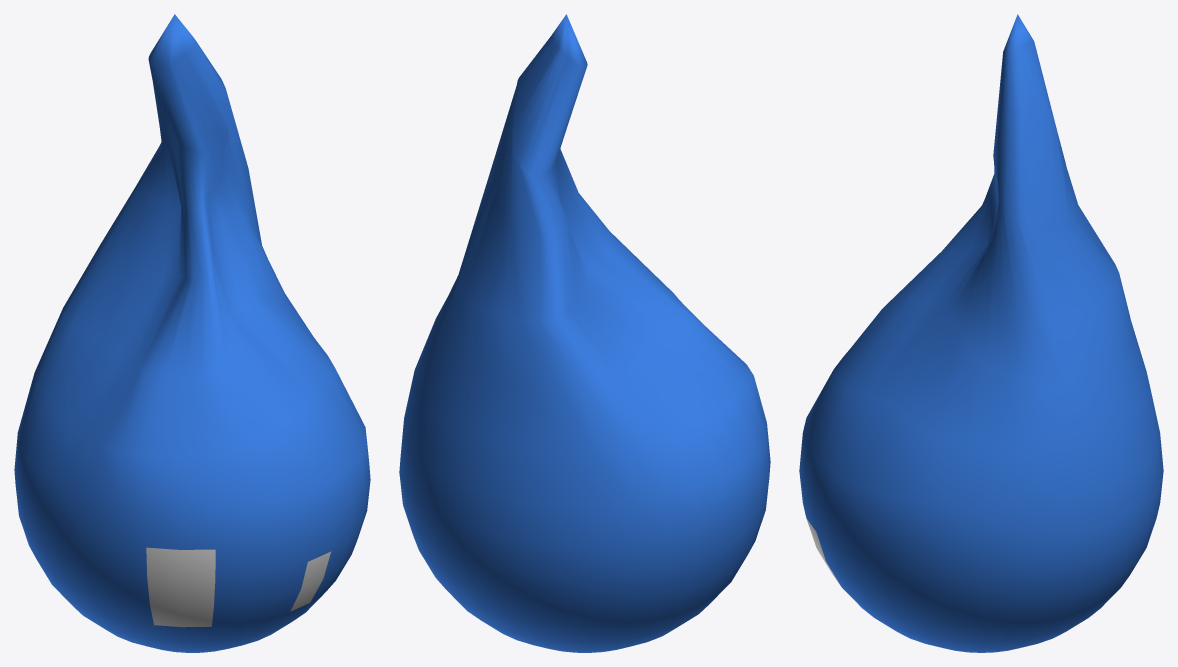
File: Charakter4.fbx
The picture shows the model from 3 angles, left to right: view 1: azimuth 30°, elevation 25°; view 2: azimuth 150°, elevation 25°; view 3: azimuth 270°, elevation 25°; orthographic projection. The views are drawn at different scales.
Visible parts, largest first — view 1: Sphere.001; view 2: Sphere.001; view 3: Sphere.001.
Part boxes in pixels (x1,y1,x2,y2): Sphere.001: (14,14,370,652); Sphere.001: (399,14,770,652); Sphere.001: (799,14,1163,652).
Bounding box in the file's own units: 200 × 377 × 200.
